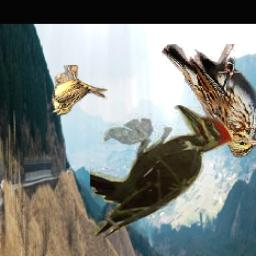Sparrow: (163, 45, 256, 159), (53, 66, 109, 117)
Woodpecker: (90, 106, 233, 239)
